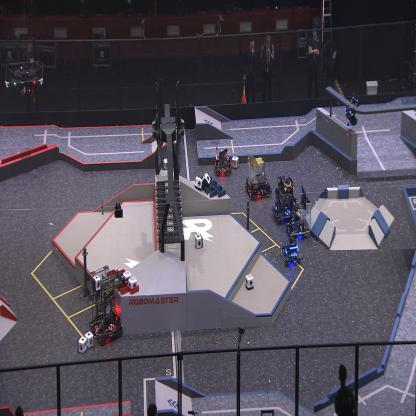car: (88, 266, 123, 343), (285, 188, 312, 242), (271, 175, 295, 224), (245, 154, 271, 199), (280, 237, 302, 266), (214, 148, 232, 176)
